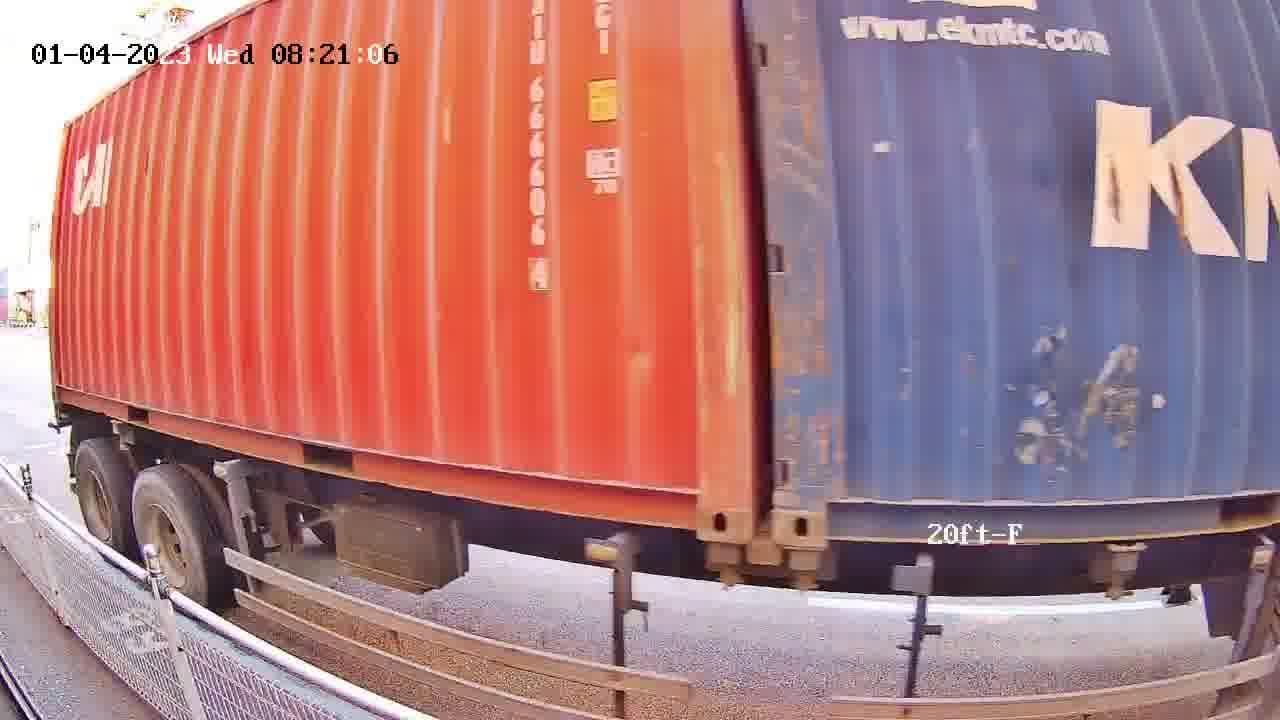Cone: (775, 548, 825, 594), (699, 542, 746, 589)
Hole_L: (775, 450, 888, 547)
Hole_R: (643, 447, 752, 543)
Tire: (134, 468, 215, 619), (75, 444, 127, 558)
